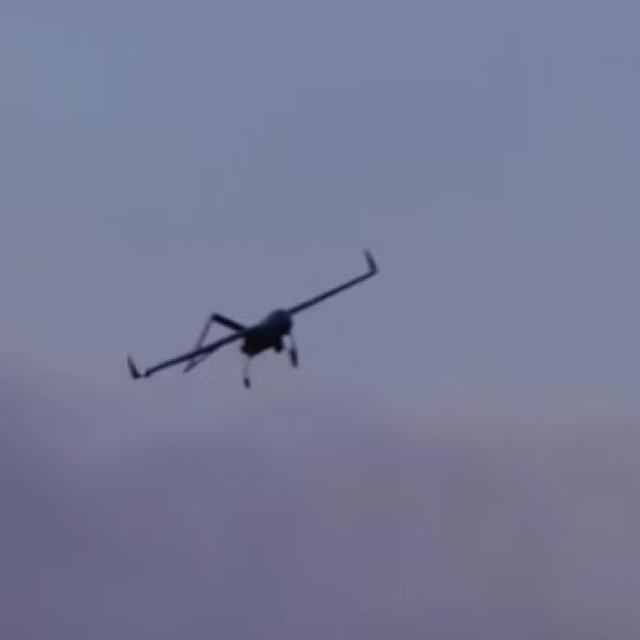iha: (122, 247, 376, 397)
